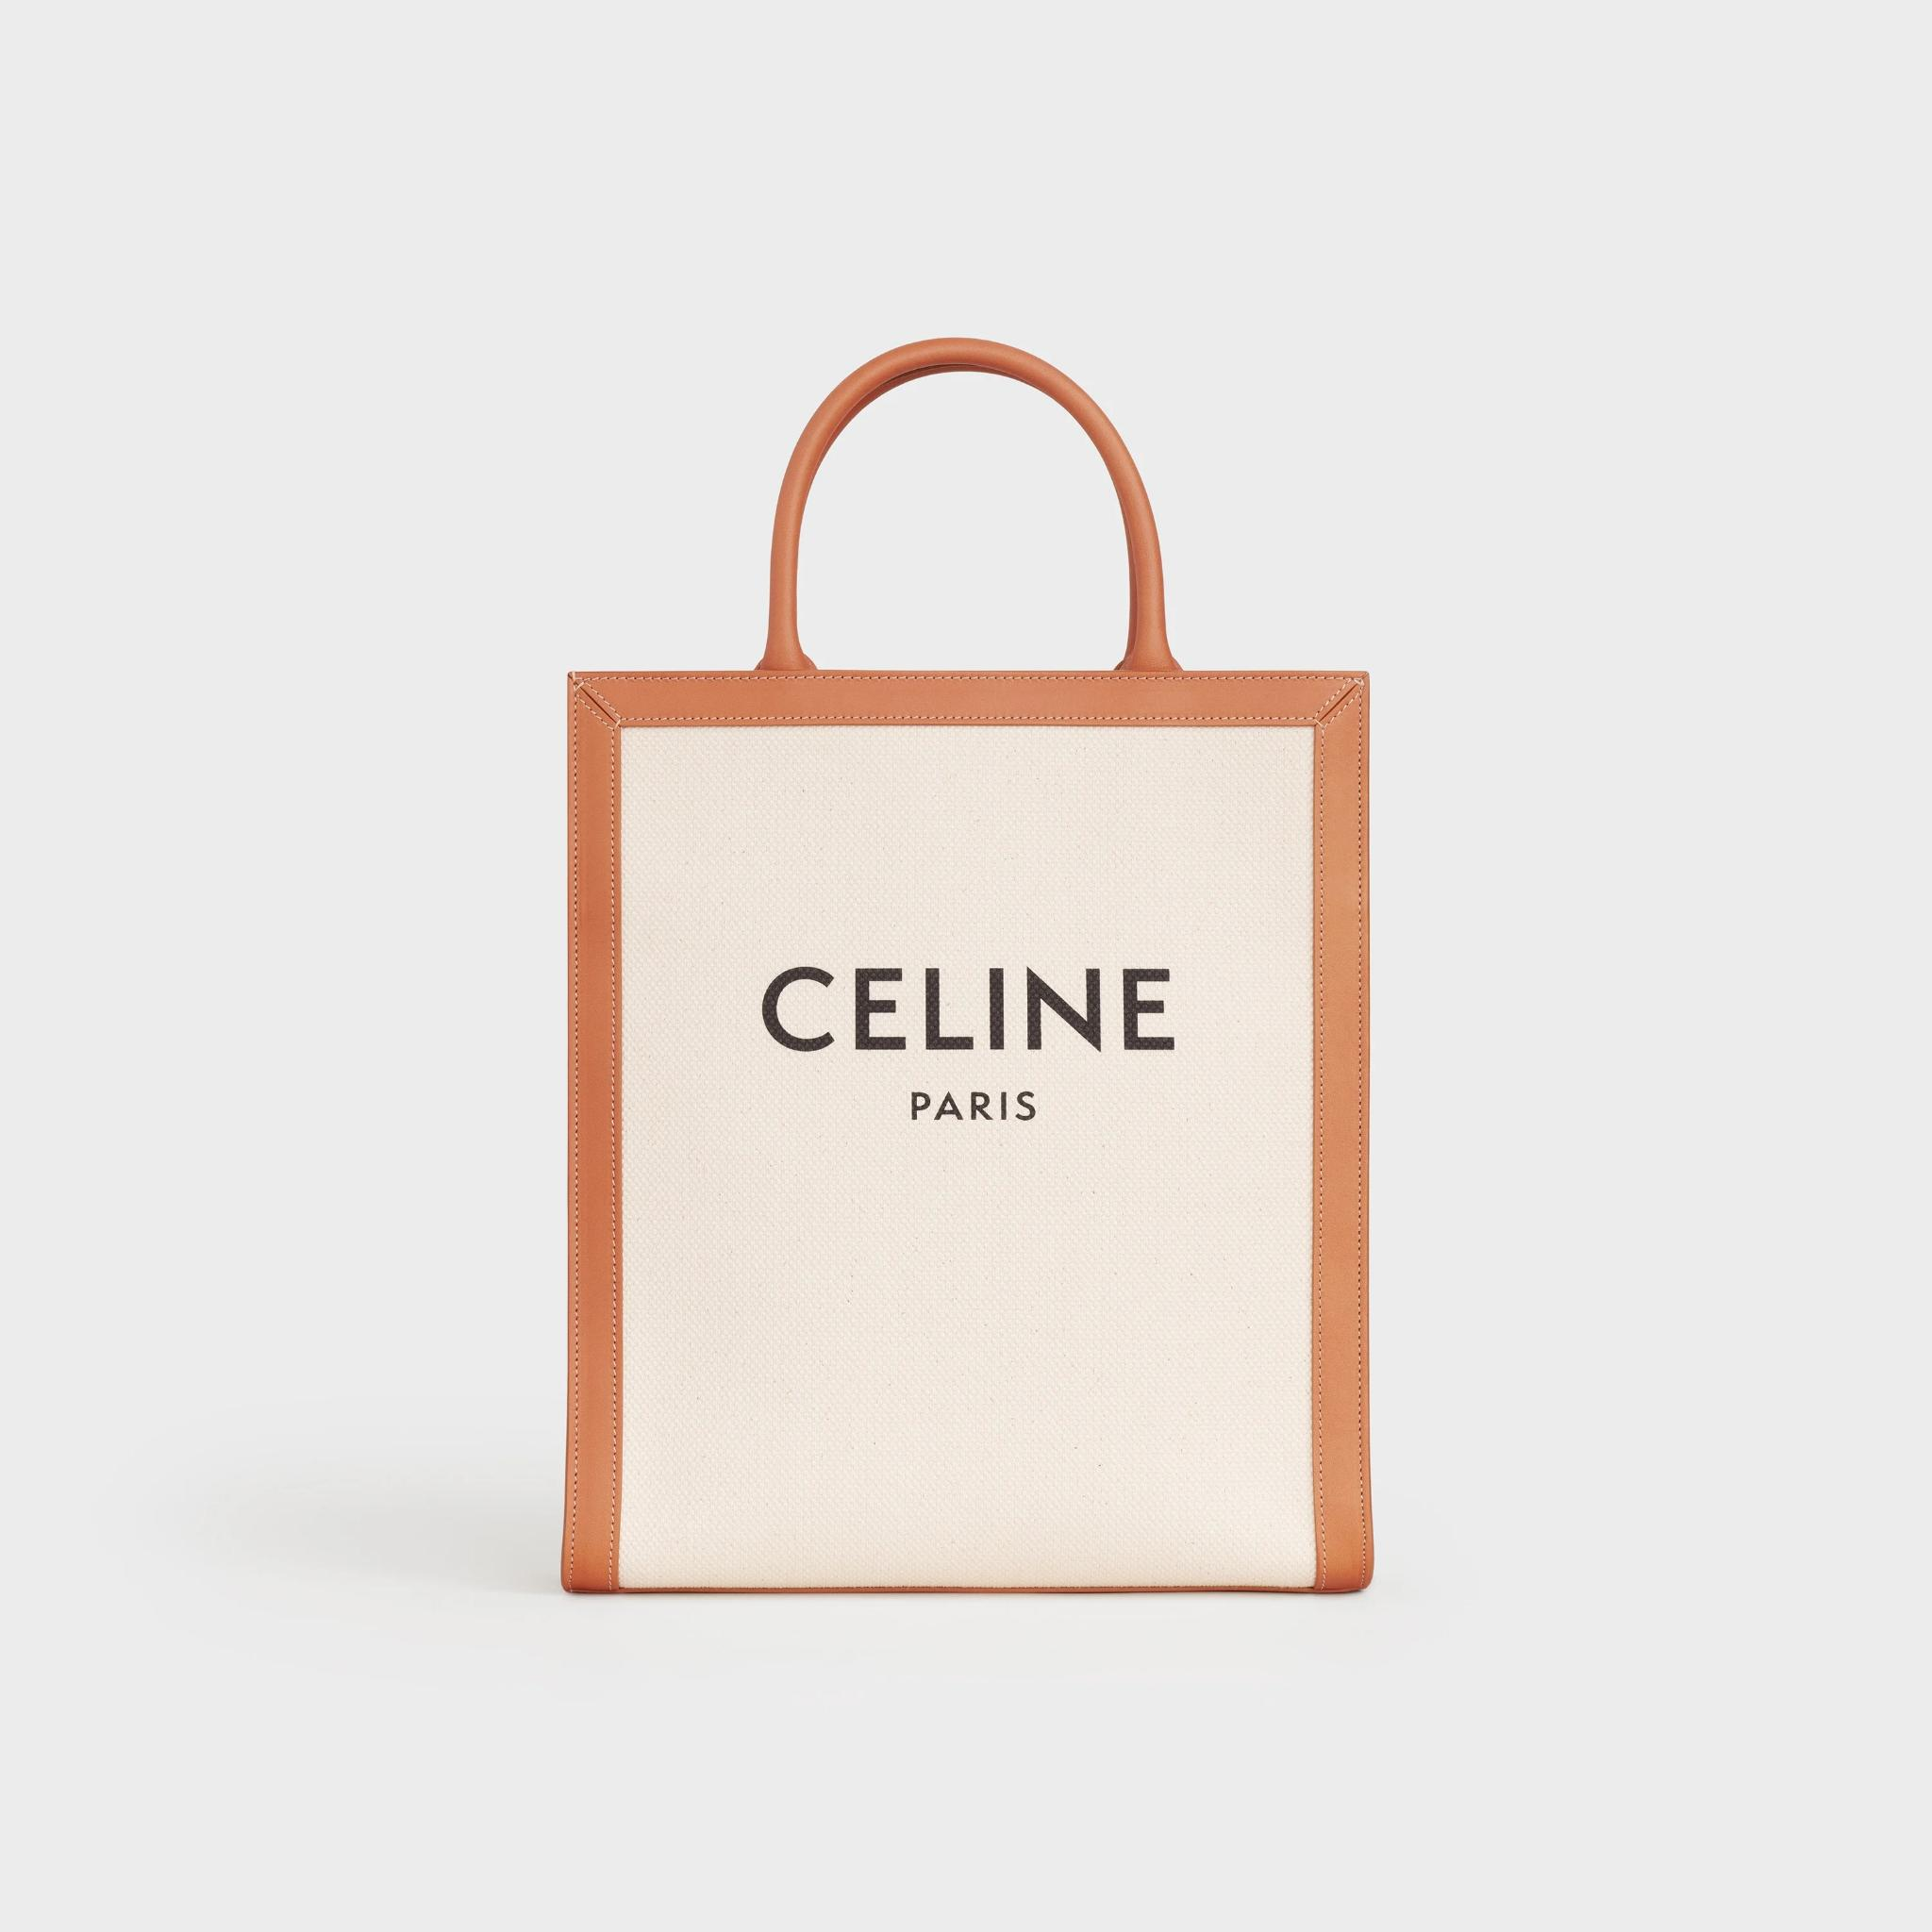CELINE: (761, 962, 1177, 1054)
